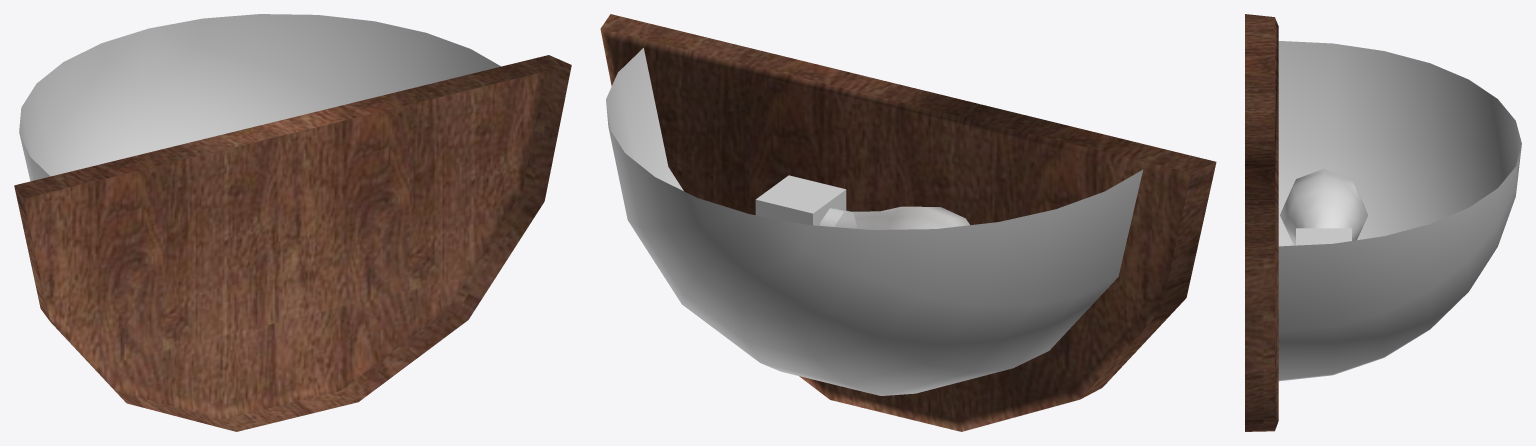
Rendered from Sconce01.fbx.
3 renders of one model, left to right at view 1: azimuth 30°, elevation 25°; view 2: azimuth 150°, elevation 25°; view 3: azimuth 270°, elevation 25°, orthographic. The views are drawn at different scales.
Visible parts, largest first — view 1: Madera, Tulipa, Tulipa9; view 2: Madera, Tulipa, Tulipa9, pCube9, Glass, Metal; view 3: Tulipa, Tulipa9, Madera, Glass, pCube9.
Boxes of the visible parts, x1,y1,x2,y2 form: Madera: (14,55,571,431); Tulipa: (19,14,500,181); Tulipa9: (19,14,493,180); Madera: (600,14,1216,431); Tulipa: (606,48,1142,395); Tulipa9: (606,54,1142,395); pCube9: (755,175,846,225); Glass: (835,206,969,229); Metal: (820,208,856,228); Tulipa: (1278,41,1521,381); Tulipa9: (1278,41,1520,380); Madera: (1245,14,1278,431); Glass: (1280,168,1367,245); pCube9: (1296,228,1351,245).
Bounding box in the file's own units: 0.3639 × 0.1808 × 0.1709.
